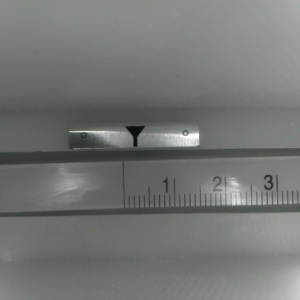1: (162, 177, 169, 193)
2: (212, 176, 222, 191)
3: (263, 175, 273, 190)
finger: (124, 126, 144, 145)
